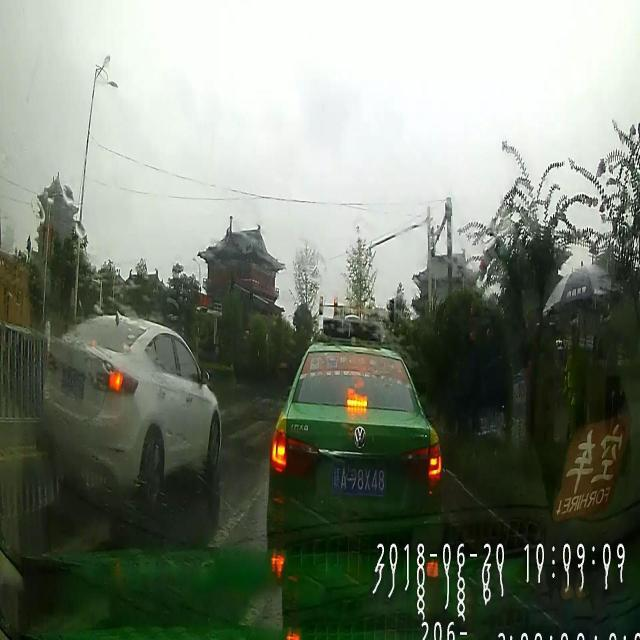car: (264, 342, 441, 550), (41, 316, 220, 494)
